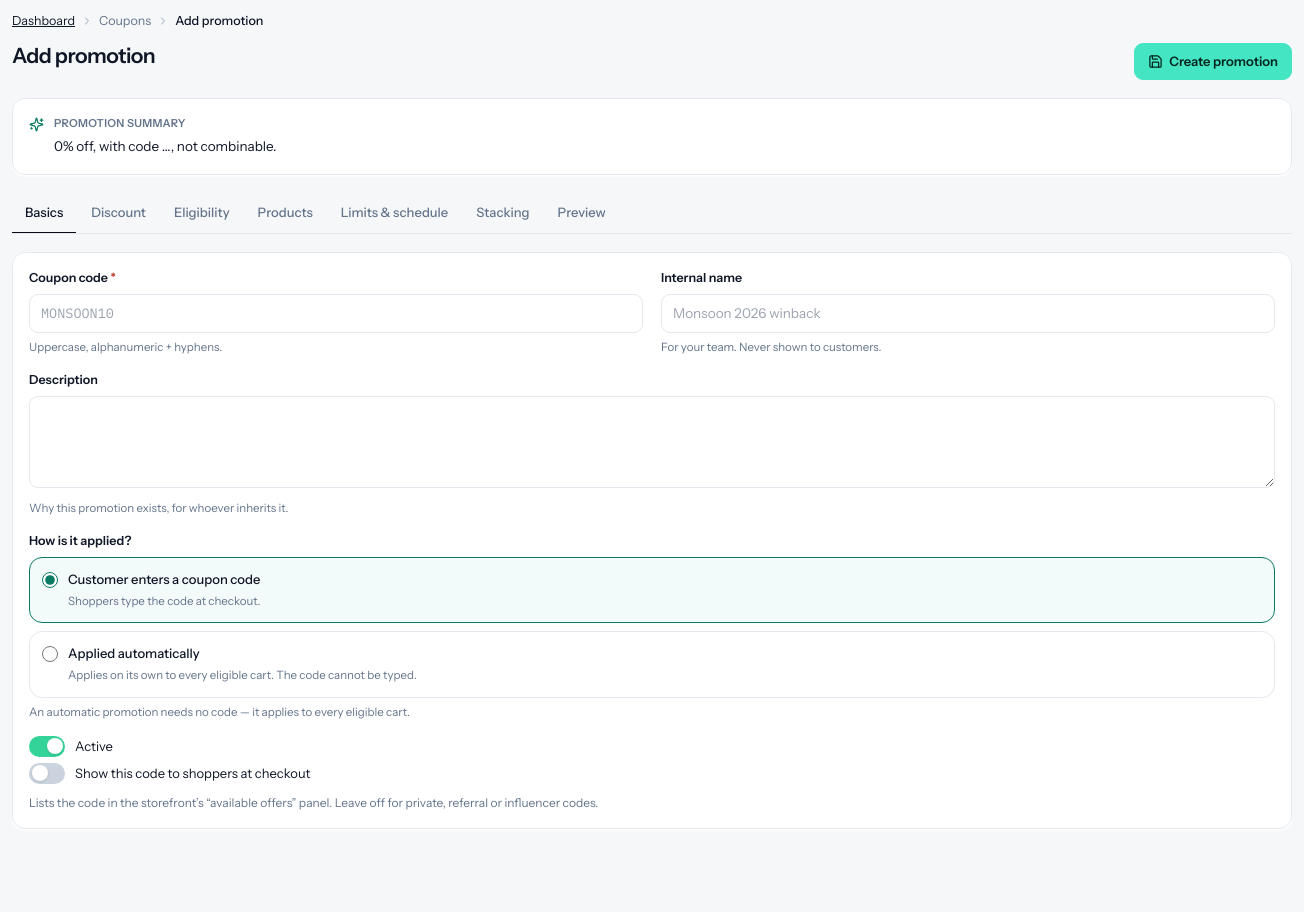
Test: CouponEditor UX - Product Scope & Targeting › shows all three targeting sections when scope is 'Specific products'
# Switch to Products tab
Click the button "Products" at (285, 213), box x1=245 y1=193 x2=326 y2=234
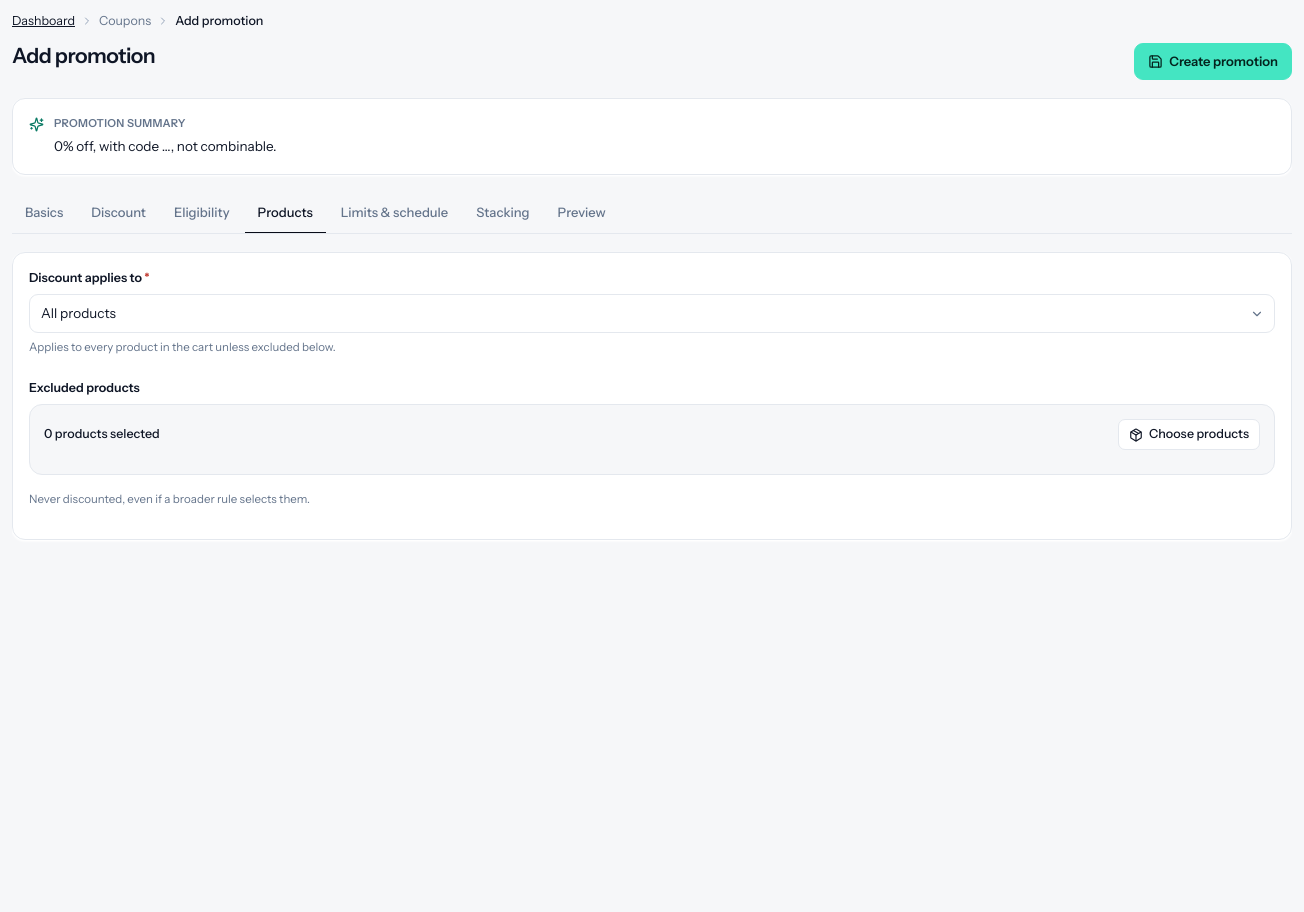
# Change scope to Specific products
Select "Specific products…" in the dropdown labelled "Discount applies to *" at (652, 314), box x1=29 y1=294 x2=1275 y2=333
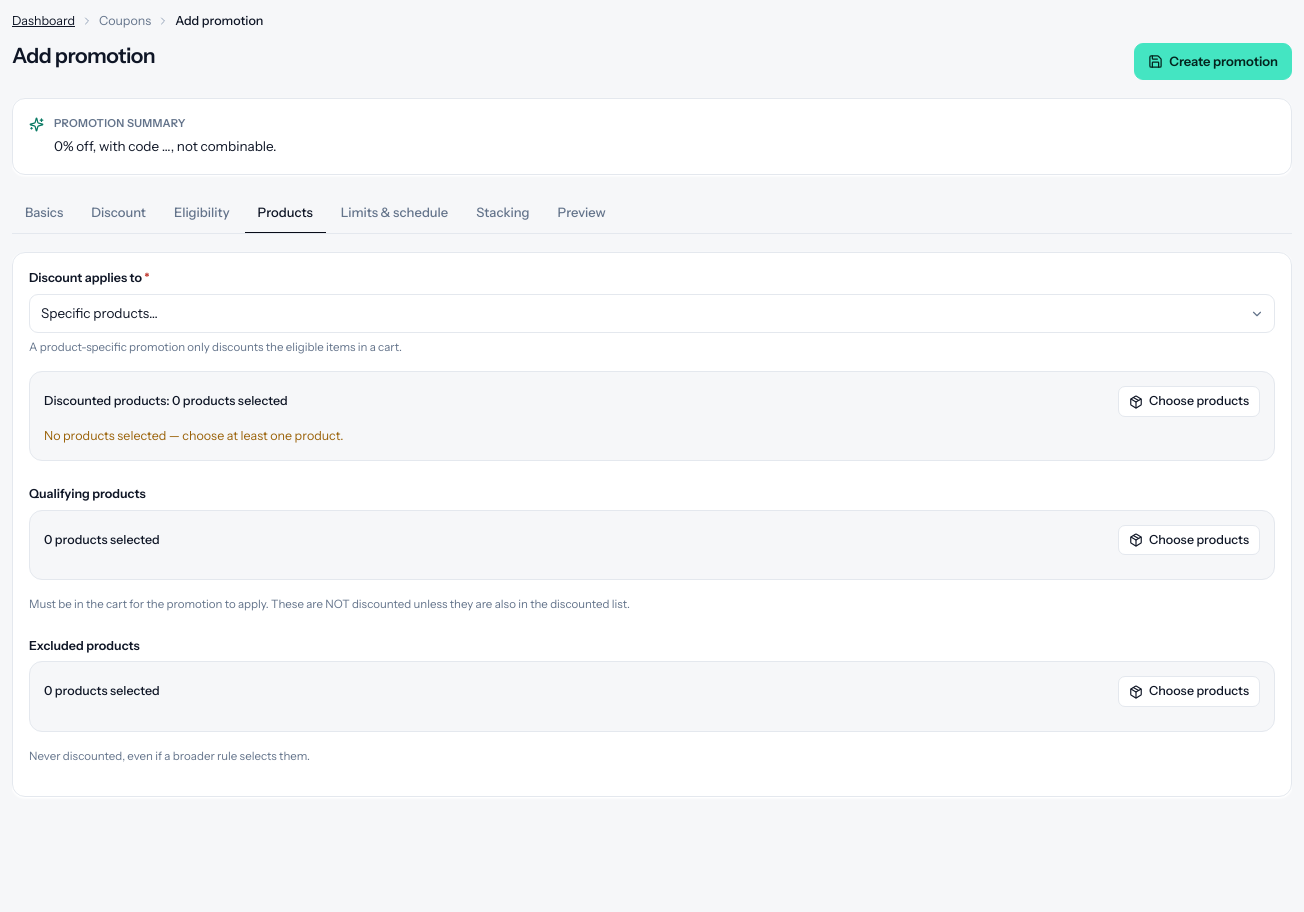
expect the text "A product-specific promotion only discounts the eligible items in a cart." is shown: met, box x1=29 y1=340 x2=402 y2=354
expect the text "Discounted products: 0 products selected" is shown: met, box x1=44 y1=392 x2=288 y2=411
expect the text "Qualifying products" is shown: met, box x1=29 y1=486 x2=146 y2=501
